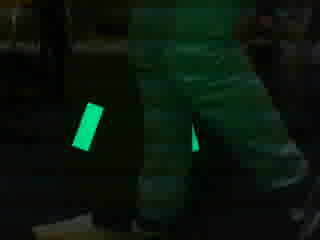target: (70, 100, 201, 153)
